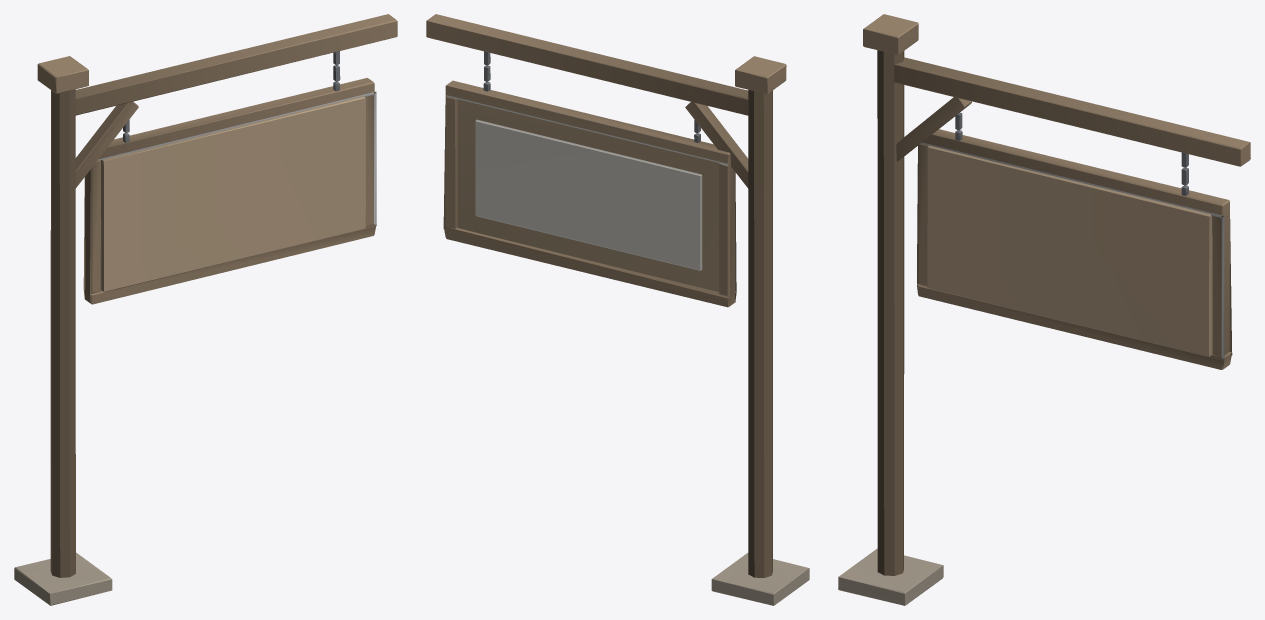
File: sign_post_low.glb
The picture shows the model from 3 angles, left to right: view 1: azimuth 30°, elevation 25°; view 2: azimuth 150°, elevation 25°; view 3: azimuth 330°, elevation 25°; orthographic projection. The views are drawn at different scales.
Bounding box in the file's own units: 1.72 × 2.36 × 0.2968.
